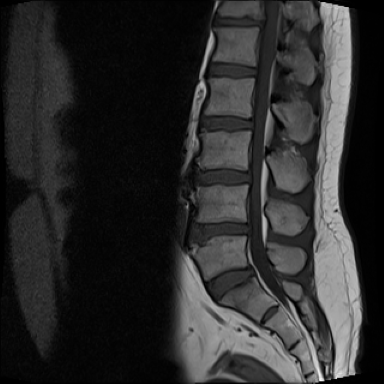Lumbar Disc Bulge (LDB): (201, 260, 264, 307), (189, 212, 260, 248)
Normal IVD: (184, 160, 254, 190), (200, 60, 263, 82), (193, 114, 258, 134)
Spinal Stenosis (SS): (240, 215, 257, 240), (254, 13, 269, 34), (246, 258, 257, 282)
Thoracic Disc Bulge (TDB): (208, 12, 268, 31)
